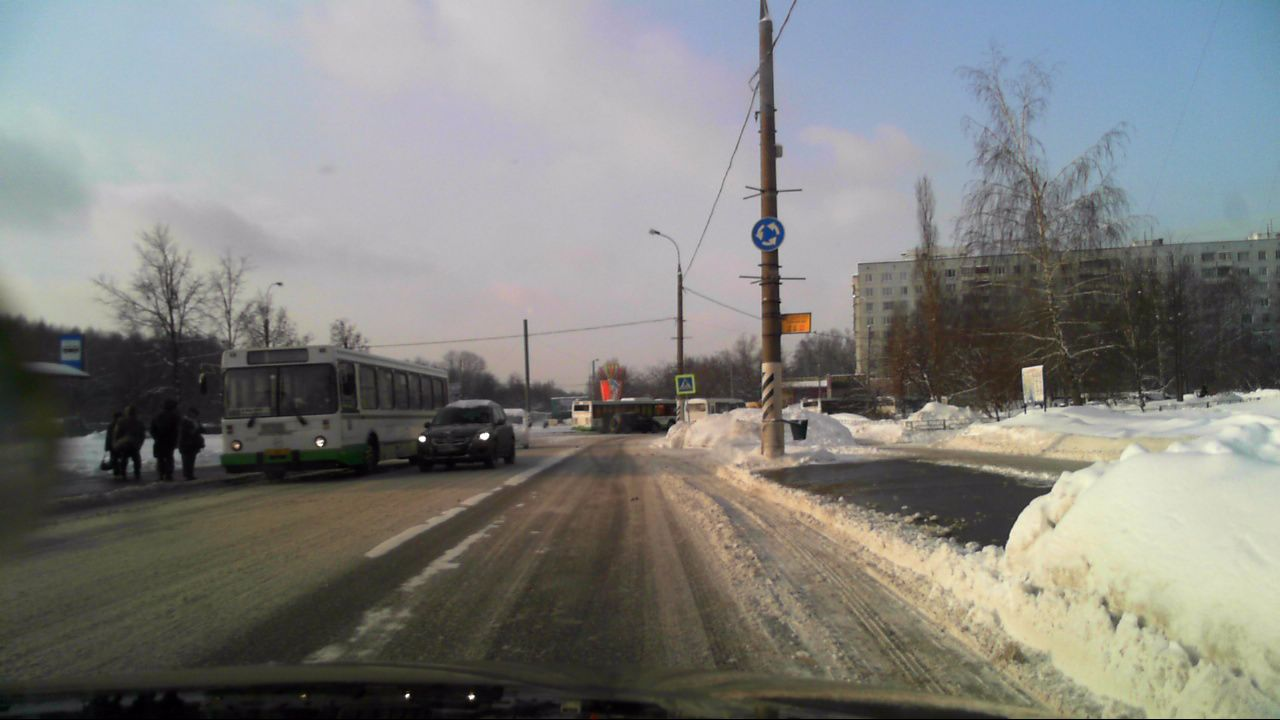Round-About: (749, 216, 786, 253)
